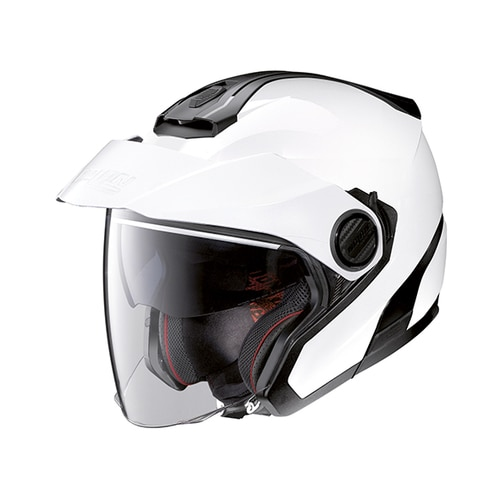with_helmet: (46, 65, 454, 432)
